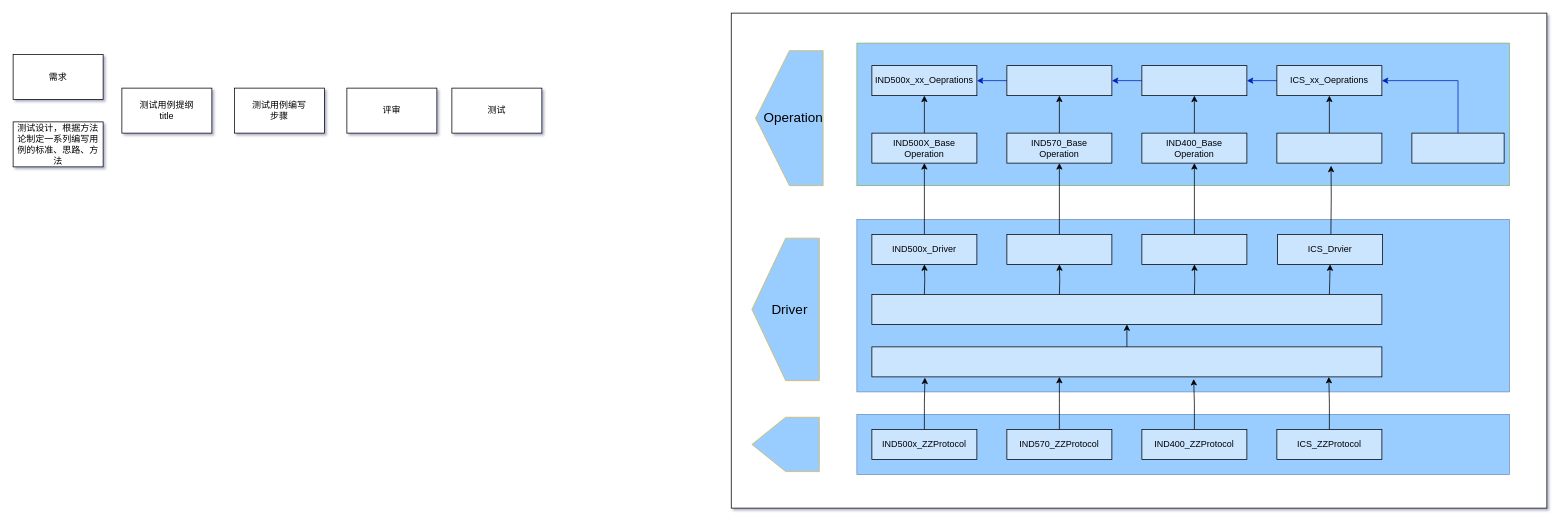
Some shapes in this 1565 by 526 pixel diagram are drawn without their labels. Here are the shapes that lost their labels. From the top down, the centre of each, then its label:
the point at 1059,80: IND570_xx_Oeprations
the point at 1194,80: IND400_xx_Oeprations
the point at 1329,147: ICS_Base Operation
the point at 1457,147: IxxOperation
the point at 1059,249: IND570_Driver
the point at 1194,249: IND400_Driver
the point at 1126,309: Driver_base
the point at 1126,361: IAutomationDriver
the point at 785,444: Protocol
